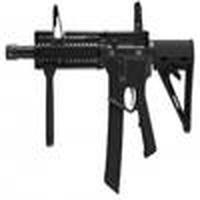gun: (8, 27, 200, 138)
